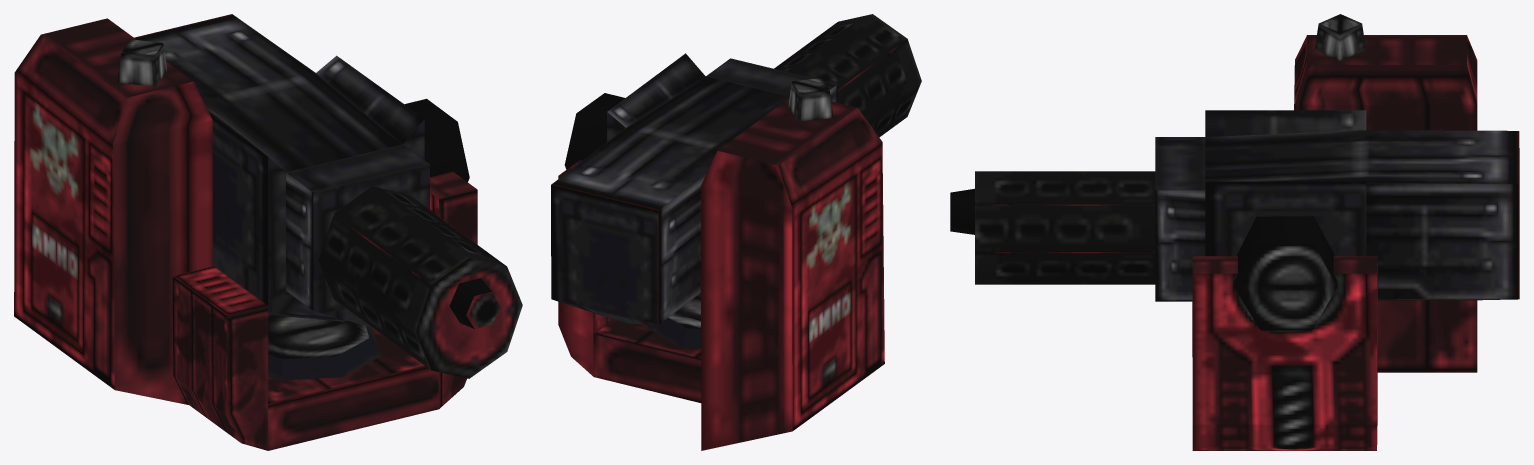
The model's file is sentry1.glb.
3 renders of one model, left to right at view 1: azimuth 30°, elevation 25°; view 2: azimuth 150°, elevation 25°; view 3: azimuth 270°, elevation 25°, orthographic. The views are drawn at different scales.
Parts seen in each view (by area): view 1: sentry1; view 2: sentry1; view 3: sentry1.
Boxes of the visible parts, x1=… form: sentry1: x1=14, y1=14, x2=522, y2=450; sentry1: x1=551, y1=14, x2=921, y2=450; sentry1: x1=950, y1=14, x2=1519, y2=450.
Size of the model in its own units: 27.61 by 28.95 by 45.34.
Materials: 2 (2 with a texture image).
